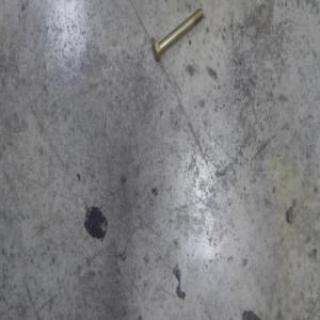Bolttrack_idkeyframe: (151, 5, 204, 62)
